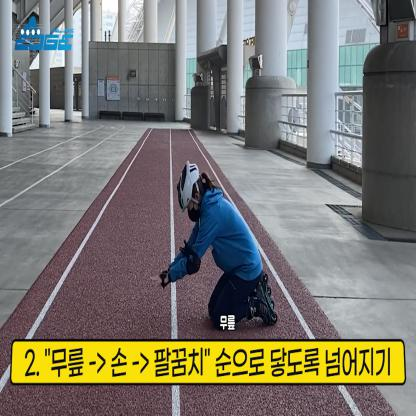Fall_Down: (150, 165, 272, 327)
